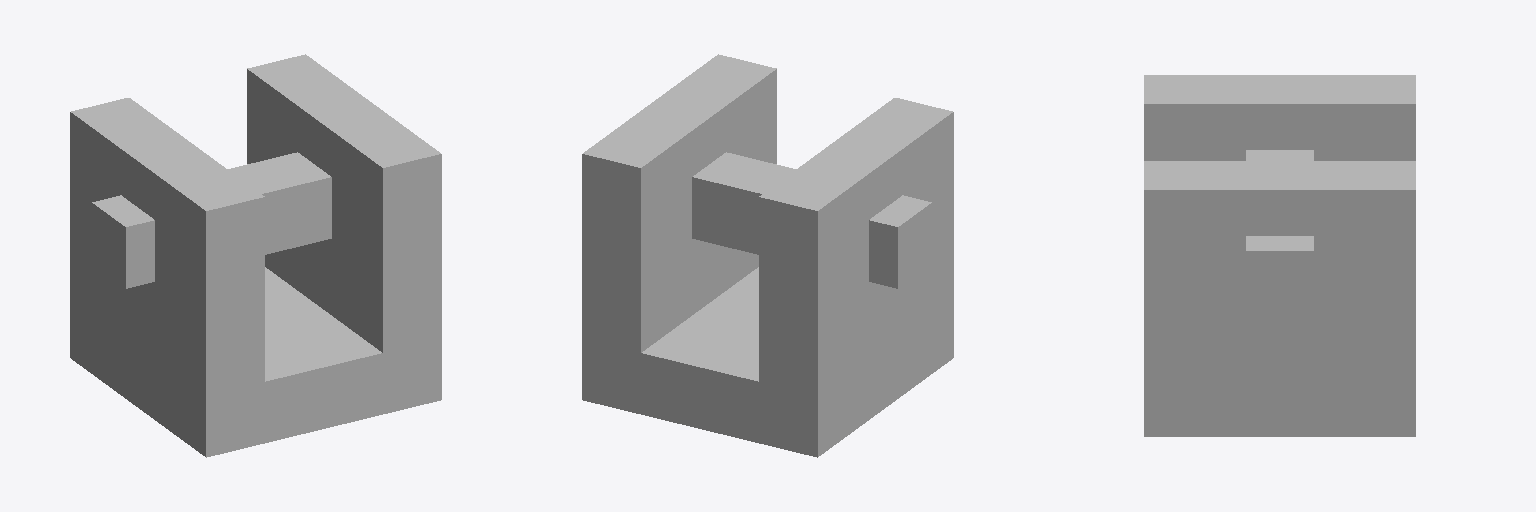
The model's file is connectorStructural.obj.
3 renders of one model, left to right at view 1: azimuth 30°, elevation 25°; view 2: azimuth 150°, elevation 25°; view 3: azimuth 270°, elevation 25°, orthographic.
Parts seen in each view (by area): view 1: connectorStructural; view 2: connectorStructural; view 3: connectorStructural.
Boxes of the visible parts, x1=… form: connectorStructural: x1=70, y1=54, x2=441, y2=457; connectorStructural: x1=582, y1=54, x2=953, y2=457; connectorStructural: x1=1144, y1=75, x2=1415, y2=436.
Bounding box in the file's own units: 0.625 × 0.5 × 0.5.